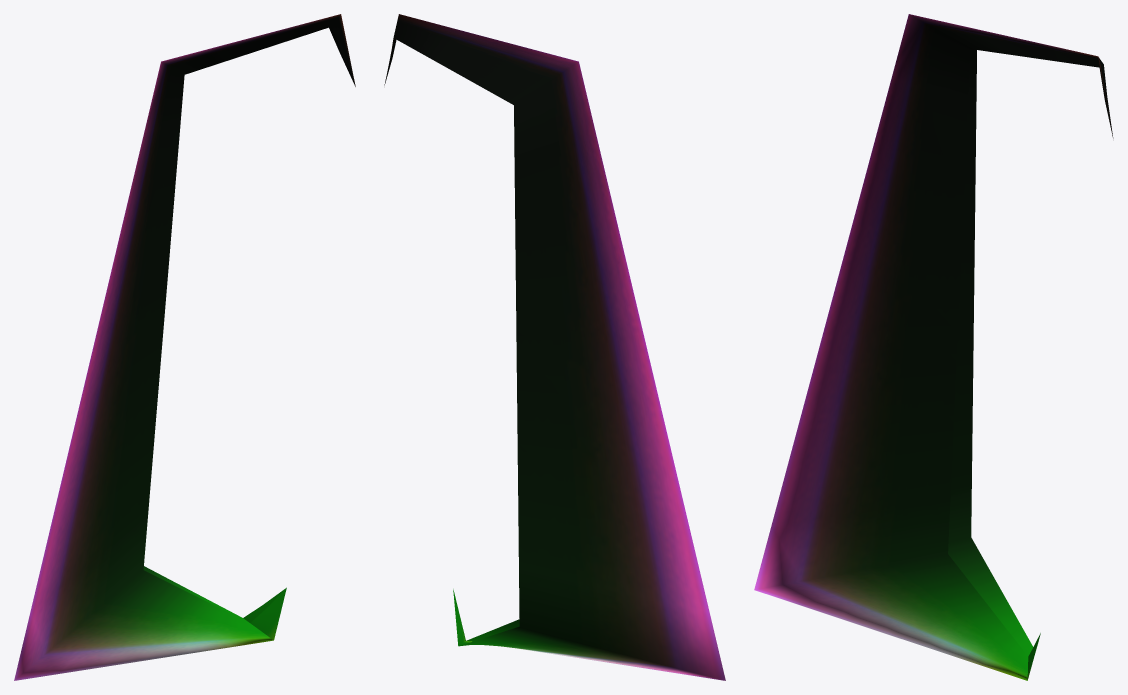
File: Trail7_1.fbx
3 views of the same model, side by side, from view 1: azimuth 30°, elevation 25°; view 2: azimuth 150°, elevation 25°; view 3: azimuth 330°, elevation 25° (orthographic). The views are drawn at different scales.
Visible parts, largest first — view 1: Eff_Model_Shougun_07_1; view 2: Eff_Model_Shougun_07_1; view 3: Eff_Model_Shougun_07_1.
Boxes of the visible parts, <box> form: Eff_Model_Shougun_07_1: <box>14,14,355,680</box>; Eff_Model_Shougun_07_1: <box>384,14,725,680</box>; Eff_Model_Shougun_07_1: <box>754,14,1113,680</box>.
Bounding box in the file's own units: 215 × 366 × 53.84.
